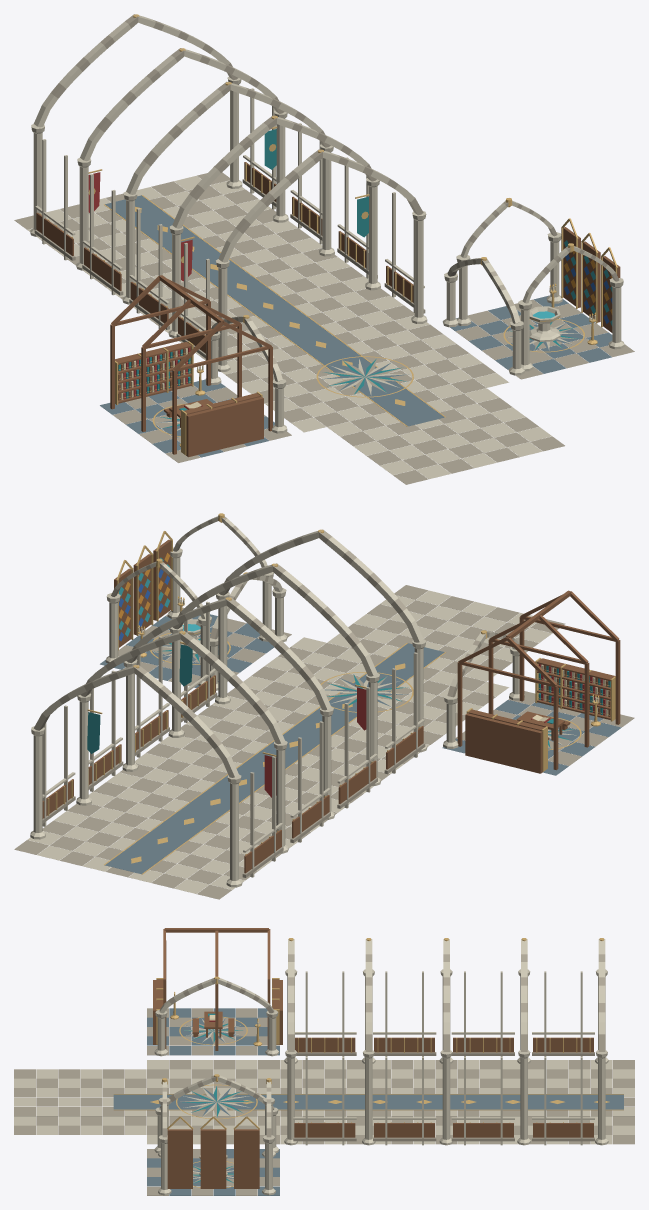
File: CathedralRooms.fbx
3 renders of one model, top to bottom at view 1: azimuth 30°, elevation 25°; view 2: azimuth 150°, elevation 25°; view 3: azimuth 270°, elevation 25°, orthographic. The views are drawn at different scales.
Parts seen in each view (by area): view 1: Stone floor inlays, Nave arcades, Nave wainscot, Reading shelves, Reading roof trusses, Baptistery ribs, Baptistery triptych, Chapel portals, Hanging banners, Baptismal font; view 2: Stone floor inlays, Nave arcades, Nave wainscot, Reading shelves, Reading roof trusses, Baptistery triptych, Baptistery ribs, Chapel portals, Hanging banners, Reading table; view 3: Stone floor inlays, Nave wainscot, Nave arcades, Baptistery triptych, Chapel portals, Baptistery ribs, Reading roof trusses, Reading shelves, Reading table.
Part boxes in pixels (x1,y1,x2,y2): Stone floor inlays: (14,172,634,484); Nave arcades: (30,14,427,371); Nave wainscot: (34,88,425,360); Reading shelves: (115,341,263,457); Reading roof trusses: (110,275,272,454); Baptistery ribs: (456,198,624,371); Baptistery triptych: (561,218,620,332); Chapel portals: (205,257,524,433); Hanging banners: (88,126,369,281); Baptismal font: (529,306,560,341); Stone floor inlays: (14,585,634,899); Nave arcades: (30,529,427,887); Nave wainscot: (42,601,425,877); Reading shelves: (465,658,615,773); Reading roof trusses: (457,590,620,770); Baptistery triptych: (114,531,172,650); Baptistery ribs: (105,513,273,685); Chapel portals: (210,572,524,748); Hanging banners: (87,642,366,797); Reading table: (516,711,570,740); Stone floor inlays: (14,1008,634,1195); Nave wainscot: (293,971,594,1145); Nave arcades: (284,938,608,1145); Baptistery triptych: (167,1116,259,1188); Chapel portals: (154,976,279,1152); Baptistery ribs: (158,1078,275,1195); Reading roof trusses: (163,928,270,1050); Reading shelves: (153,978,282,1044); Reading table: (192,1011,234,1037).
Bounding box in the file's own units: 3997 × 1624 × 5597.
